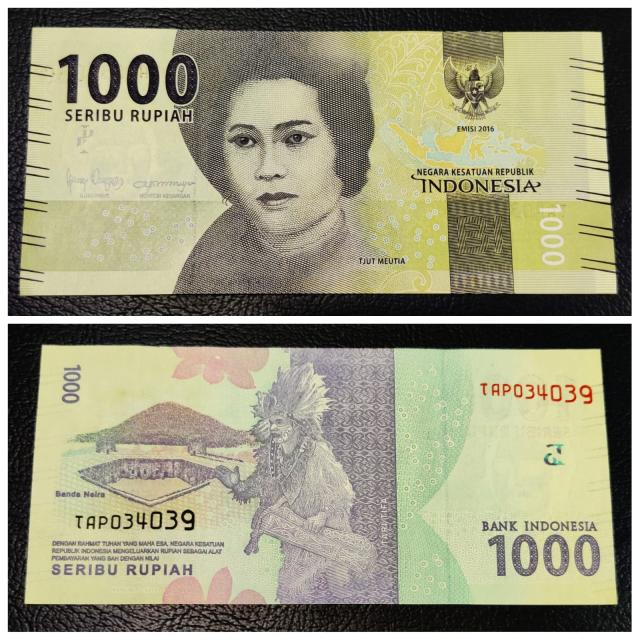seribu rupiah: (16, 26, 618, 298), (23, 344, 624, 608)
